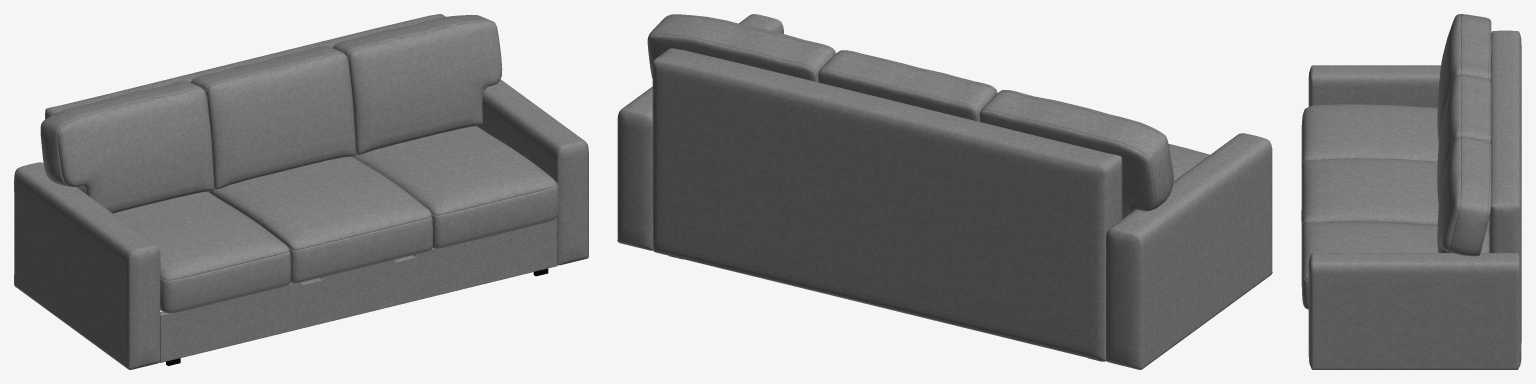
Rendered from barslov_sofa_3_osobowa_rozkadana_80541589.glb.
The picture shows the model from 3 angles, left to right: view 1: azimuth 30°, elevation 25°; view 2: azimuth 150°, elevation 25°; view 3: azimuth 270°, elevation 25°; orthographic projection. The views are drawn at different scales.
Parts seen in each view (by area): view 1: barslov_sofa_3_osobowa_rozkadana_80541589; view 2: barslov_sofa_3_osobowa_rozkadana_80541589; view 3: barslov_sofa_3_osobowa_rozkadana_80541589.
Boxes of the visible parts, x1,y1,x2,y2 form: barslov_sofa_3_osobowa_rozkadana_80541589: (14,14,588,369); barslov_sofa_3_osobowa_rozkadana_80541589: (617,14,1272,369); barslov_sofa_3_osobowa_rozkadana_80541589: (1301,14,1521,369).
Size of the model in its own units: 2.36 by 0.9405 by 1.09.
Materials: 1 (1 with a texture image).
